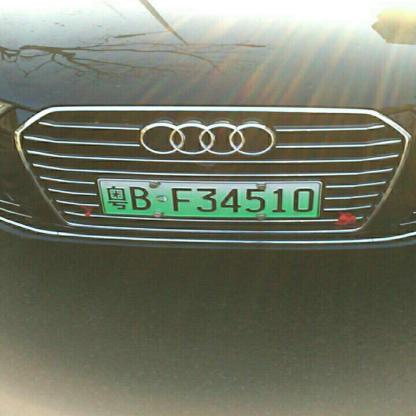lp: (98, 179, 322, 216)
